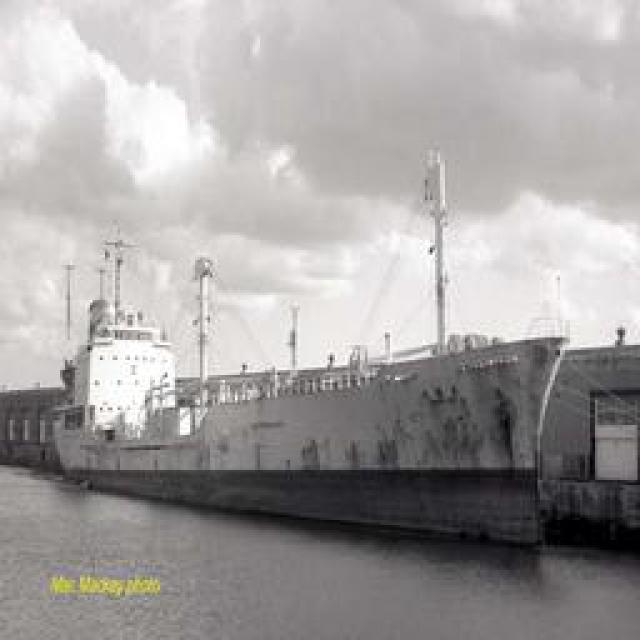Ship: (35, 238, 593, 546)
